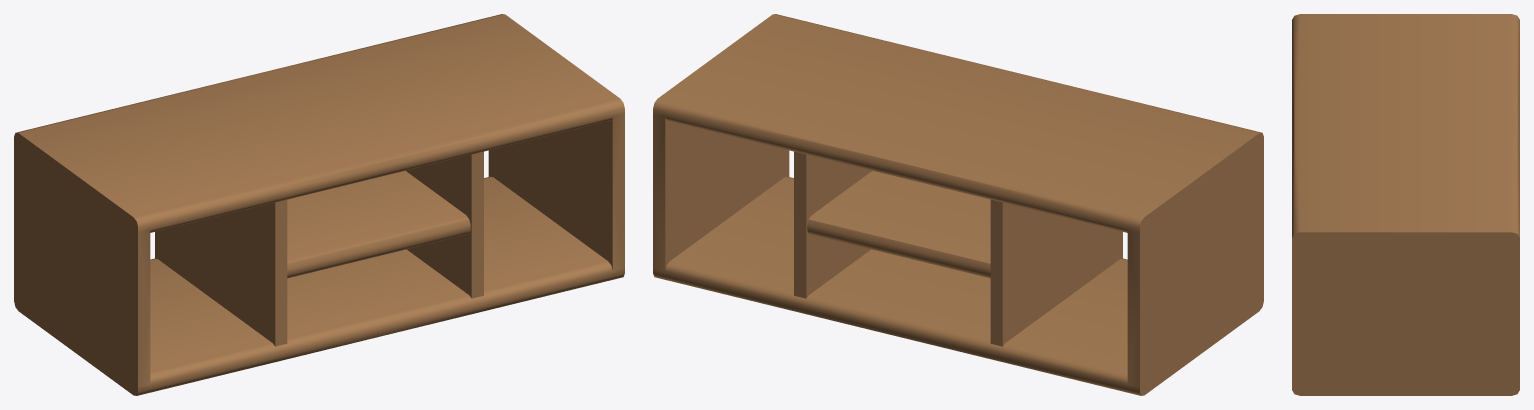
Rendered from cabinet_shelves_2.glb.
The picture shows the model from 3 angles, left to right: view 1: azimuth 30°, elevation 25°; view 2: azimuth 150°, elevation 25°; view 3: azimuth 270°, elevation 25°; orthographic projection. The views are drawn at different scales.
Parts seen in each view (by area): view 1: Environment_Cabinet_Shelves_2; view 2: Environment_Cabinet_Shelves_2; view 3: Environment_Cabinet_Shelves_2.
Boxes of the visible parts, box(x1,y1,x2,y2) form: Environment_Cabinet_Shelves_2: box(14, 14, 624, 395); Environment_Cabinet_Shelves_2: box(653, 14, 1263, 395); Environment_Cabinet_Shelves_2: box(1292, 14, 1519, 395).
Bounding box in the file's own units: 4 × 1.4 × 1.77.
1 material, 1 textured.
